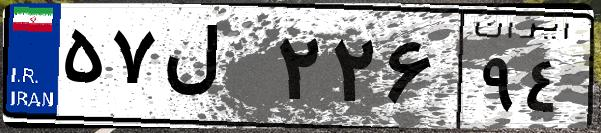2: (270, 28, 330, 110), (330, 28, 385, 110)
4: (525, 38, 570, 115)
5: (57, 26, 110, 100)
6: (385, 28, 445, 110)
7: (110, 28, 158, 98)
9: (475, 38, 525, 113)
ل: (158, 20, 270, 120)
